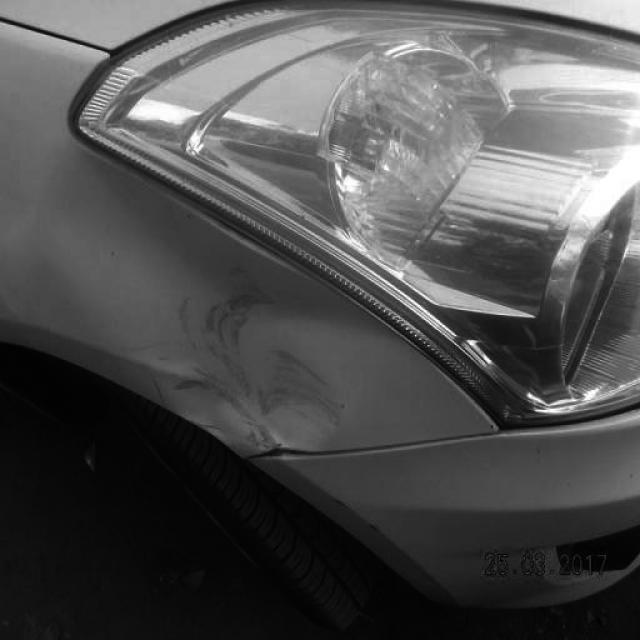car damage: (175, 267, 349, 452)
